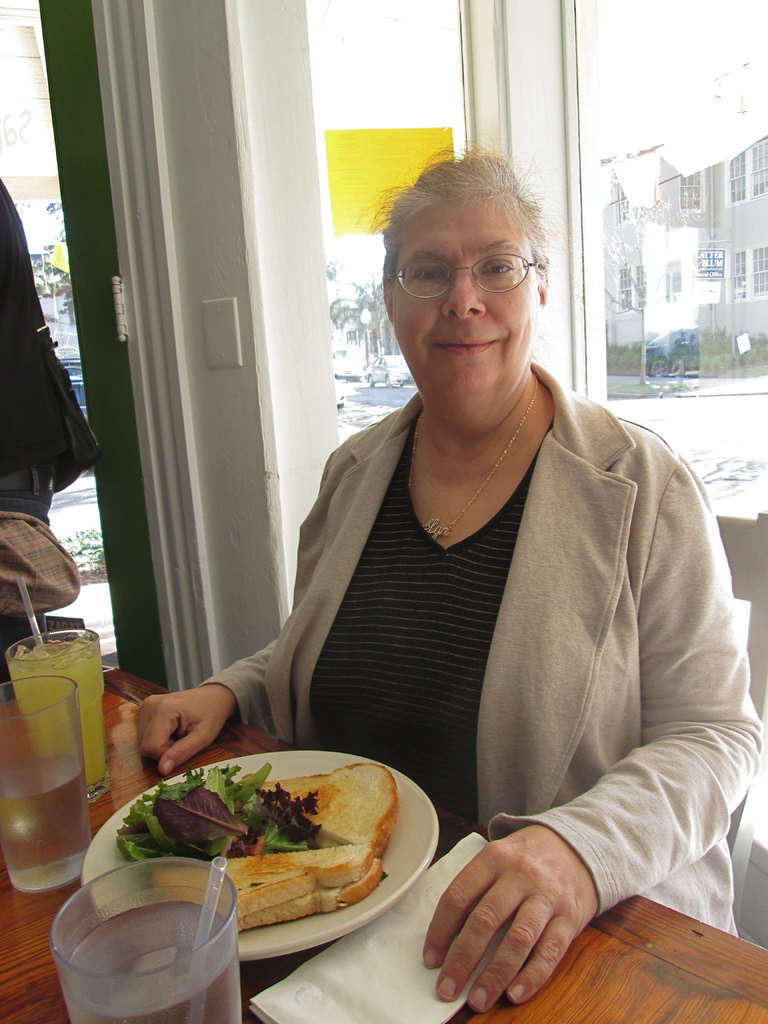sandwich: (146, 758, 387, 935)
